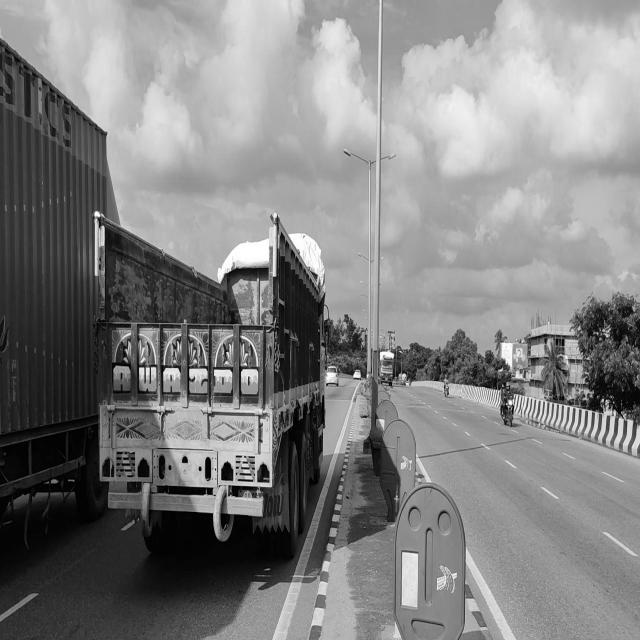truck: (96, 212, 332, 572)
